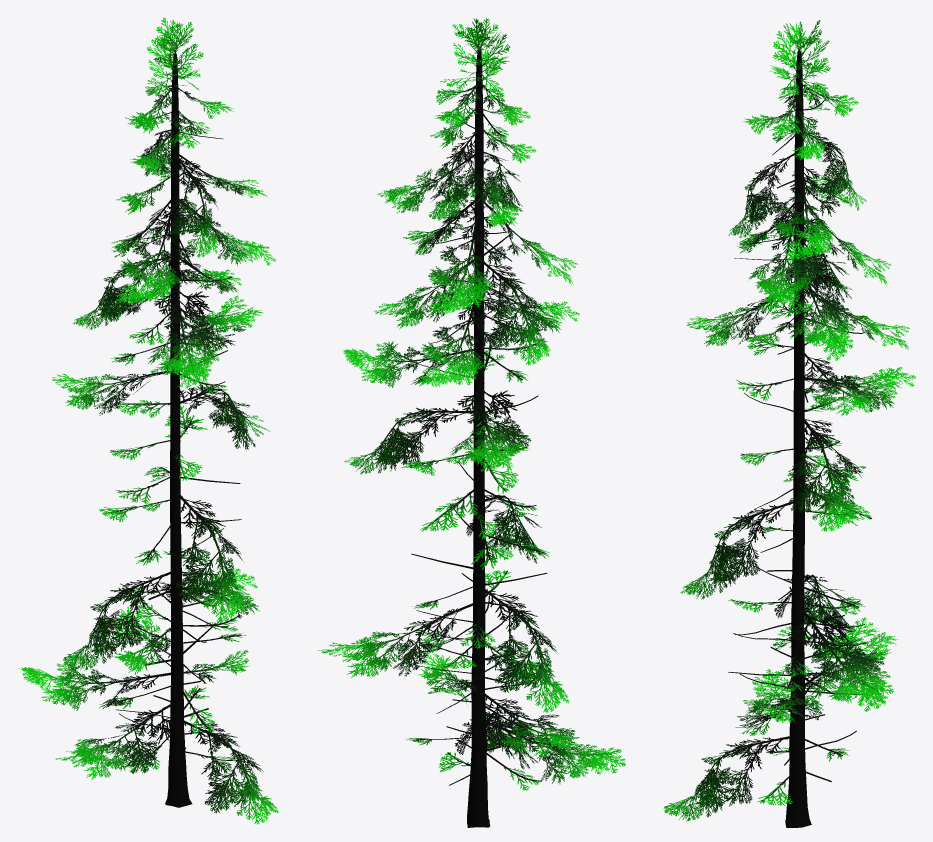
The model's file is Larger_SpruceB.fbx.
The picture shows the model from 3 angles, left to right: view 1: azimuth 30°, elevation 25°; view 2: azimuth 150°, elevation 25°; view 3: azimuth 270°, elevation 25°; orthographic projection. The views are drawn at different scales.
Parts seen in each view (by area): view 1: SpruceTreeB; view 2: SpruceTreeB; view 3: SpruceTreeB.
Boxes of the visible parts, <box> form: SpruceTreeB: <box>18,17,278,824</box>; SpruceTreeB: <box>317,18,625,827</box>; SpruceTreeB: <box>663,20,915,827</box>.
Size of the model in its own units: 484 by 1412 by 412.
